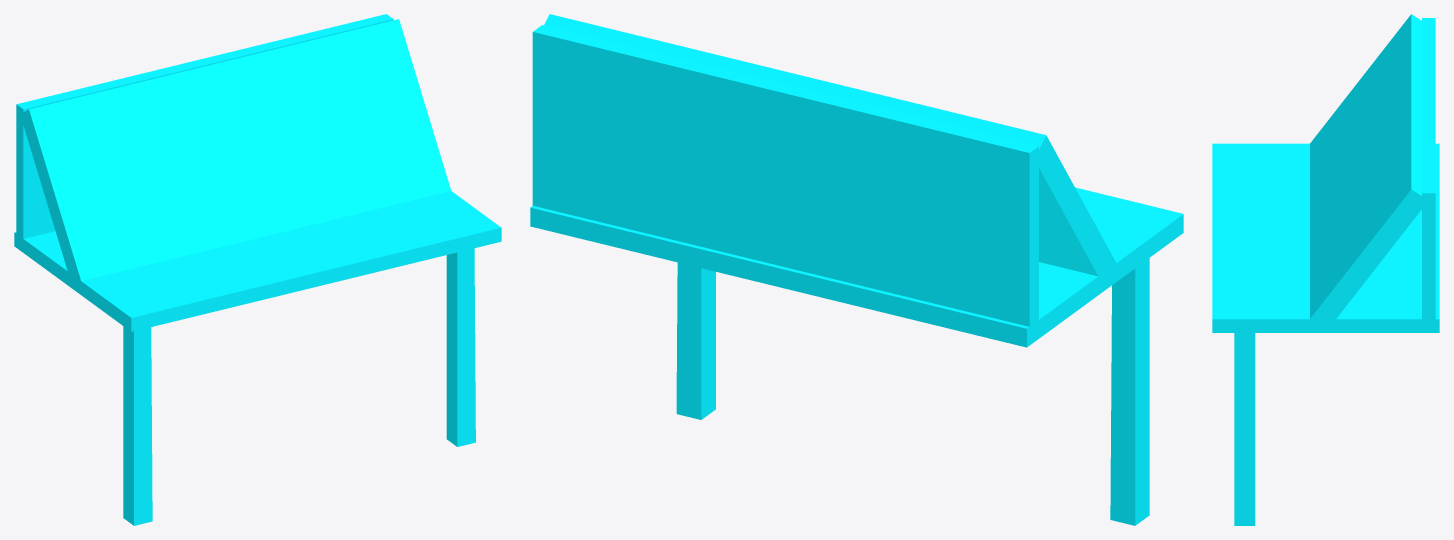
Rendered from SM_Bld_Awning_03_Collision.fbx.
3 views of the same model, side by side, from view 1: azimuth 30°, elevation 25°; view 2: azimuth 150°, elevation 25°; view 3: azimuth 270°, elevation 25° (orthographic). The views are drawn at different scales.
Visible parts, largest first — view 1: SM_Bld_Awning_03_Collision; view 2: SM_Bld_Awning_03_Collision; view 3: SM_Bld_Awning_03_Collision.
Part boxes in pixels (left/top/right/bottom): SM_Bld_Awning_03_Collision: left=14, top=14, right=501, bottom=525; SM_Bld_Awning_03_Collision: left=530, top=14, right=1183, bottom=525; SM_Bld_Awning_03_Collision: left=1212, top=14, right=1439, bottom=525.
Bounding box in the file's own units: 418 × 381 × 229.
